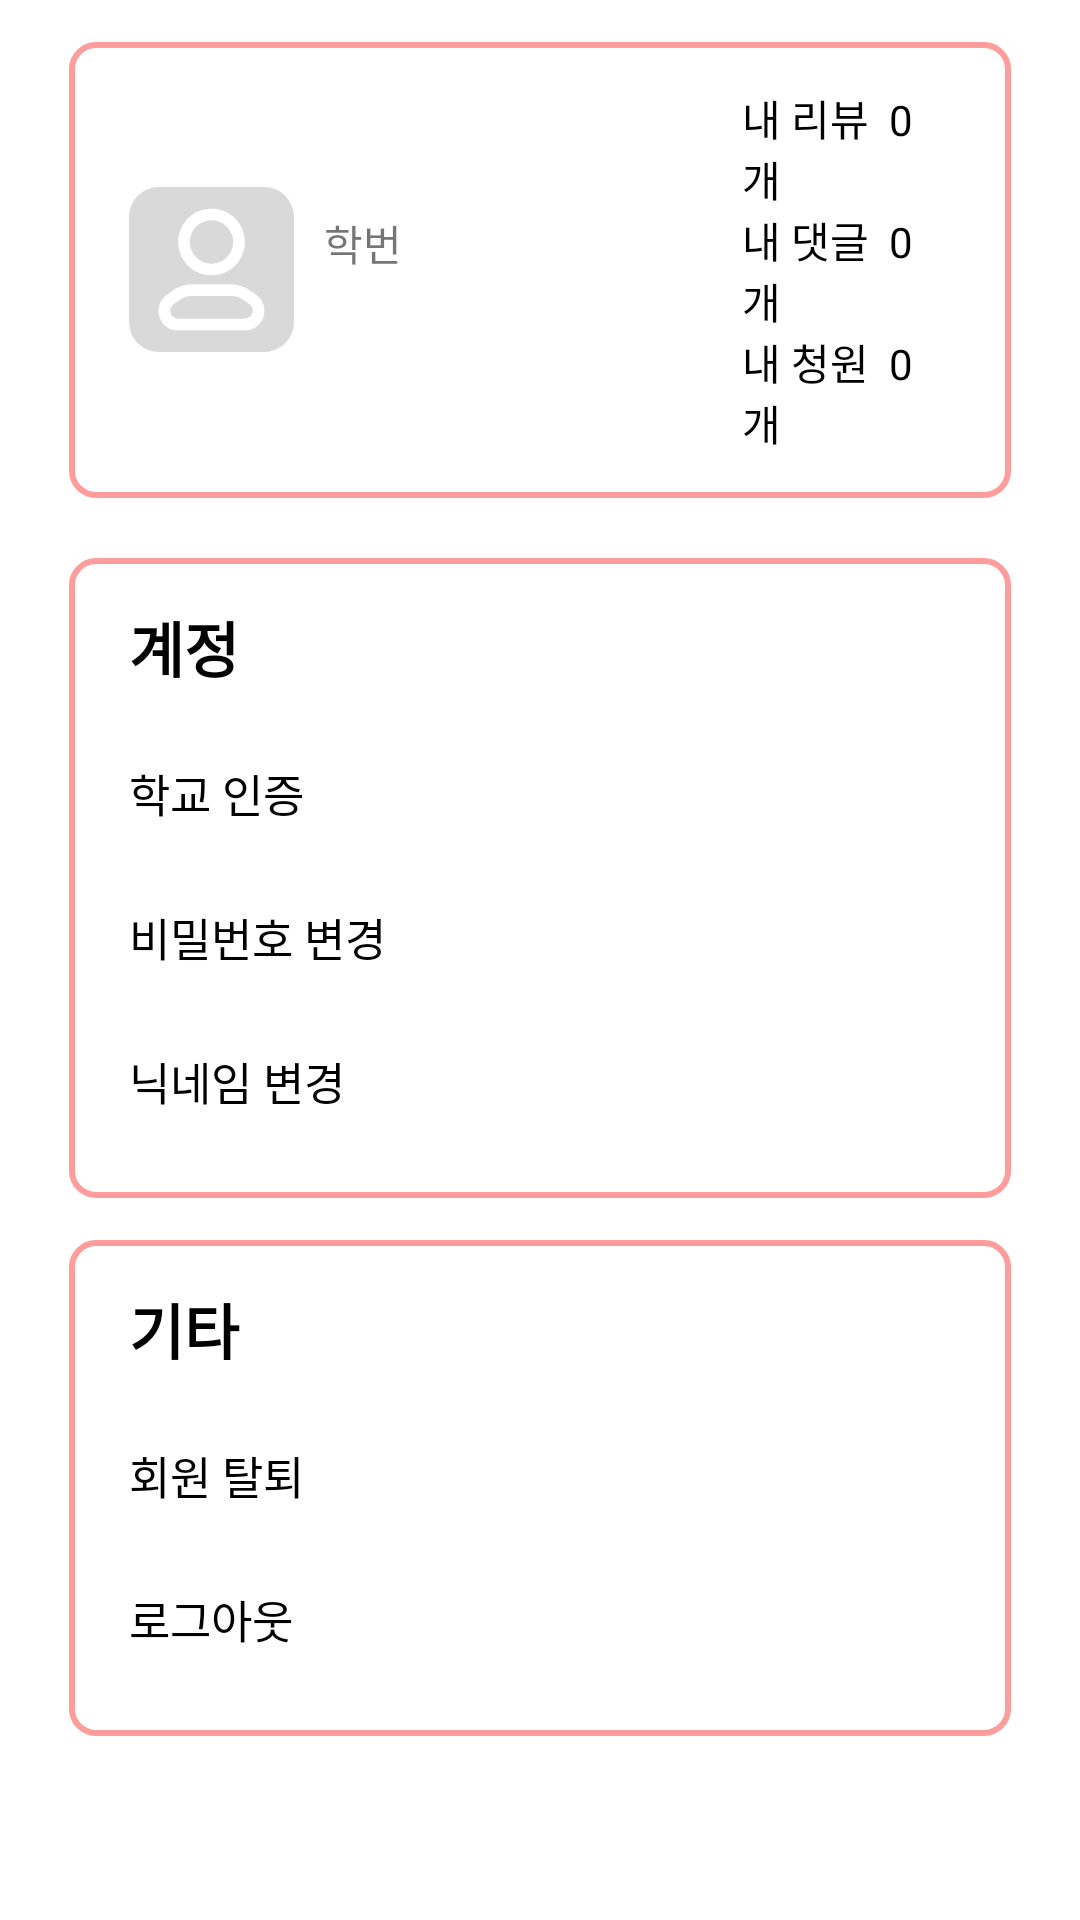

Icons on this 1080 × 1920 Android screen, each with the point to tap as (x=x, y=y):
tap account: (x=211, y=269)
